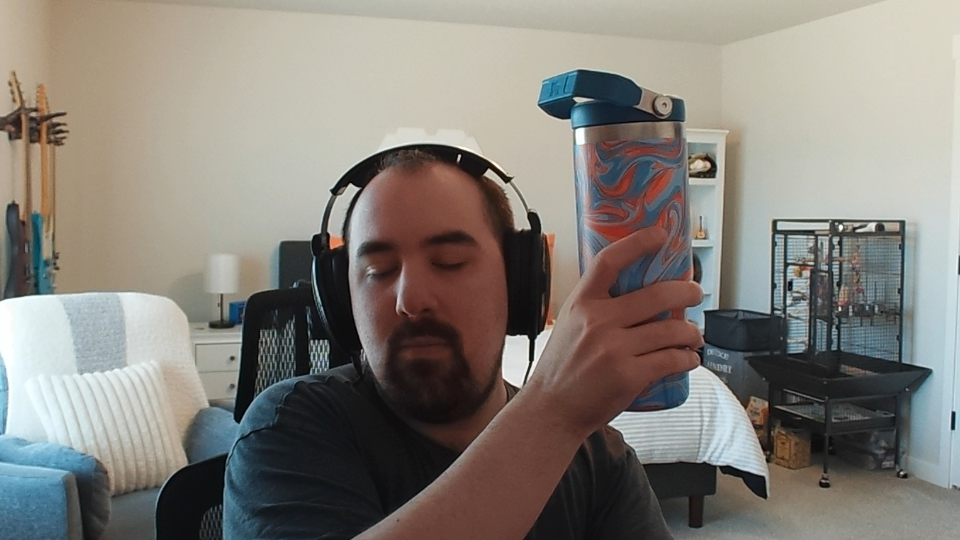StanleyCup: (537, 68, 697, 413)
